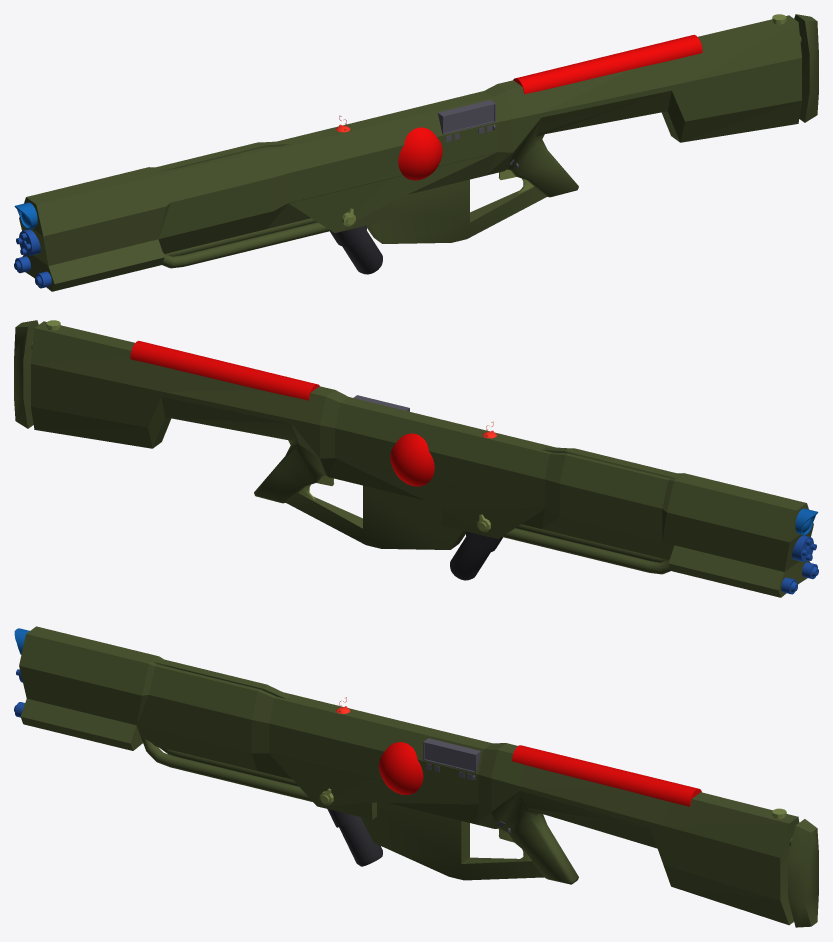
File: lasgun.fbx
The picture shows the model from 3 angles, top to bottom: view 1: azimuth 30°, elevation 25°; view 2: azimuth 150°, elevation 25°; view 3: azimuth 330°, elevation 25°; orthographic projection.
Visible parts, largest first — view 1: pSphere5; view 2: pSphere5; view 3: pSphere5.
Boxes of the visible parts, x1=… form: pSphere5: x1=14, y1=14, x2=818, y2=291; pSphere5: x1=14, y1=320, x2=818, y2=597; pSphere5: x1=14, y1=626, x2=818, y2=927.
Size of the model in its own units: 0.02 by 0.00384 by 0.00148.
1 material, 1 textured.
